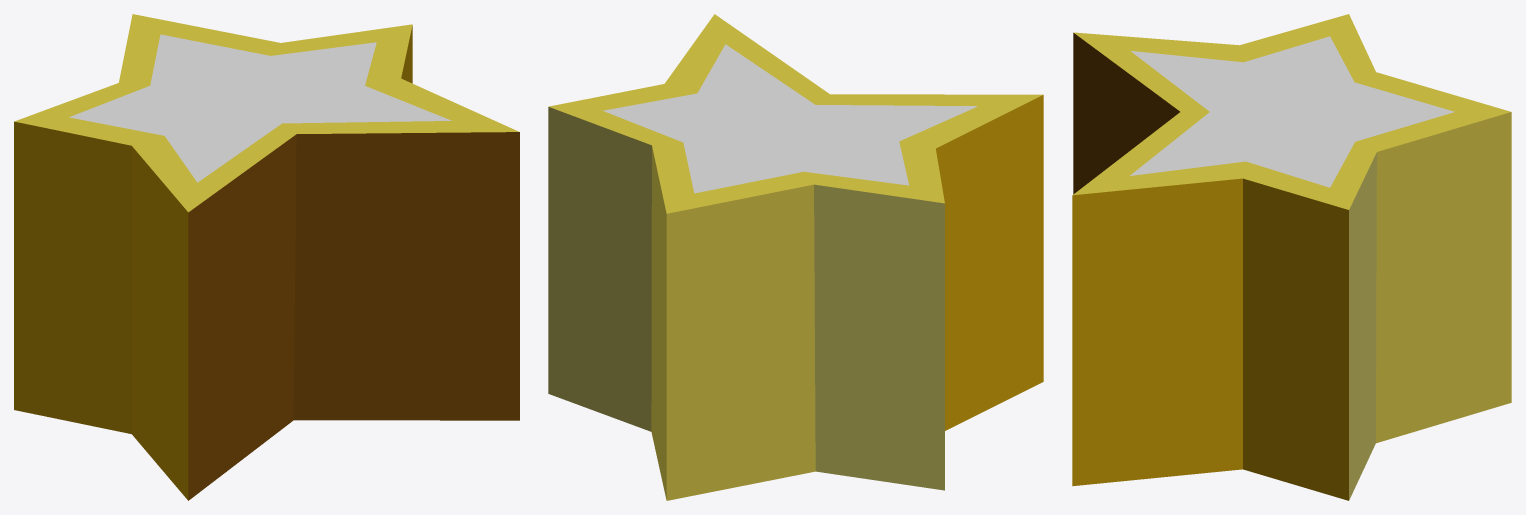
The model's file is HolidayStarProgressMeterLightning.fbx.
The picture shows the model from 3 angles, left to right: view 1: azimuth 30°, elevation 25°; view 2: azimuth 150°, elevation 25°; view 3: azimuth 270°, elevation 25°; orthographic projection.
Parts seen in each view (by area): view 1: HolidayStarProgressMeterLightning; view 2: HolidayStarProgressMeterLightning; view 3: HolidayStarProgressMeterLightning.
Boxes of the visible parts, x1,y1,x2,y2 form: HolidayStarProgressMeterLightning: [14, 14, 519, 500]; HolidayStarProgressMeterLightning: [548, 14, 1043, 500]; HolidayStarProgressMeterLightning: [1072, 14, 1511, 500].
Bounding box in the file's own units: 88.7 × 61.35 × 83.94.
